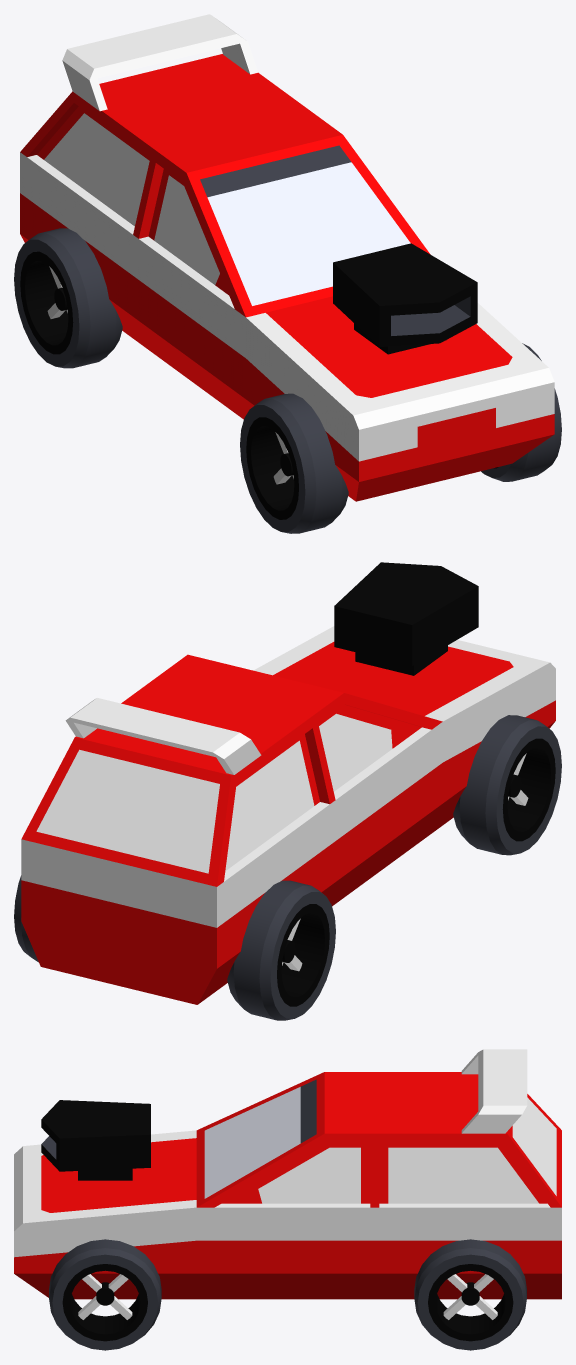
The model's file is CarProt1.fbx.
3 views of the same model, one above another, from view 1: azimuth 30°, elevation 25°; view 2: azimuth 150°, elevation 25°; view 3: azimuth 270°, elevation 25° (orthographic). The views are drawn at different scales.
Parts seen in each view (by area): view 1: body_frontStandard, body_topSports, wheel_cycleSpokes (×3), body_standard (×2), body_topBackStation, detail_engine, spoiler_small; view 2: body_standard (×2), body_topBackStation, wheel_cycleSpokes (×3), body_frontStandard, body_topSports, detail_engine, spoiler_small; view 3: body_standard (×2), body_frontStandard, body_topSports, body_topBackStation, wheel_cycleSpokes (×2), detail_engine, spoiler_small.
Boxes of the visible parts, x1,y1,x2,y2 form: body_frontStandard: (246, 296, 554, 501); body_topSports: (133, 110, 430, 317); wheel_cycleSpokes (×3): (14, 228, 561, 533); body_standard (×2): (20, 152, 250, 419); body_topBackStation: (20, 54, 308, 226); detail_engine: (333, 243, 477, 354); spoiler_small: (62, 14, 257, 111); body_standard (×2): (21, 722, 442, 1004); body_topBackStation: (21, 679, 319, 886); wheel_cycleSpokes (×3): (14, 715, 561, 1020); body_frontStandard: (253, 626, 555, 839); body_topSports: (154, 654, 442, 804); detail_engine: (334, 562, 478, 675); spoiler_small: (65, 698, 261, 774); body_standard (×2): (196, 1203, 561, 1299); body_frontStandard: (14, 1130, 196, 1299); body_topSports: (196, 1072, 379, 1207); body_topBackStation: (379, 1072, 561, 1207); wheel_cycleSpokes (×2): (49, 1239, 526, 1350); detail_engine: (41, 1100, 150, 1180); spoiler_small: (461, 1049, 527, 1133).
Bounding box in the file's own units: 13.11 × 13.58 × 30.
